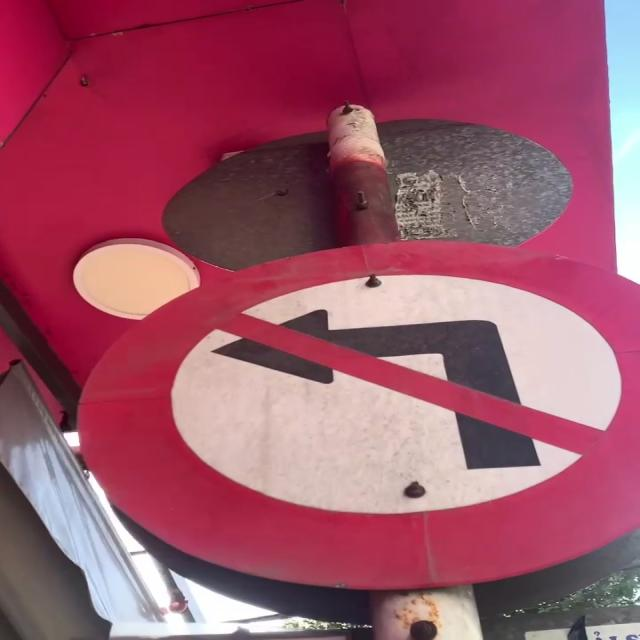Cam_Re_Trai: (77, 239, 638, 590)
